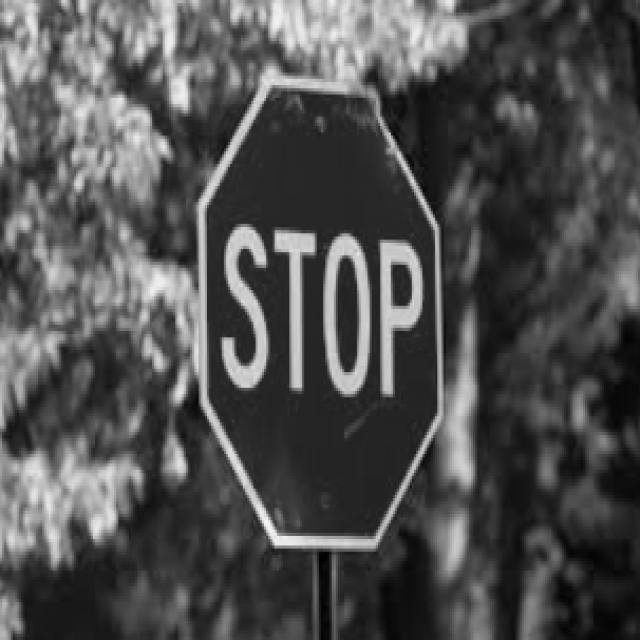Stop-signs: (198, 78, 443, 548)
